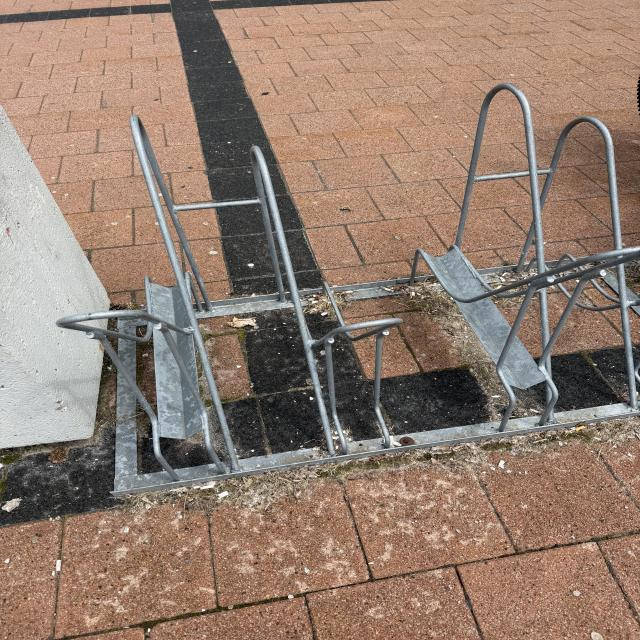Bicycle Rack: (58, 74, 640, 505)
